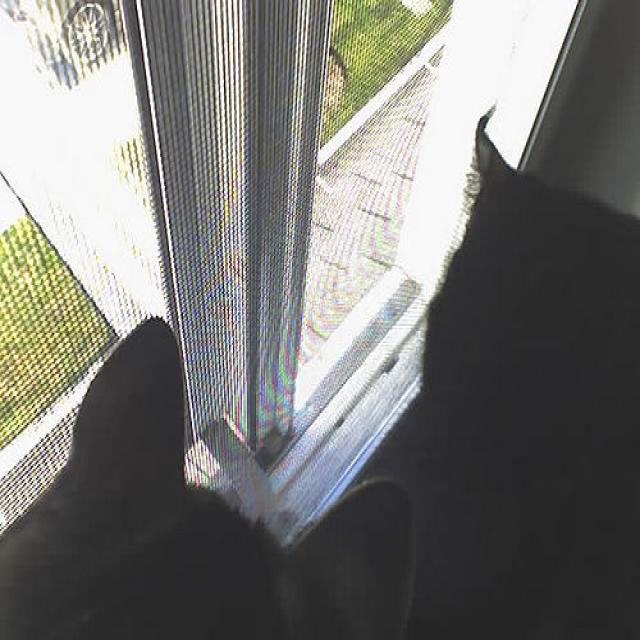Vehicle: (22, 0, 125, 59)
